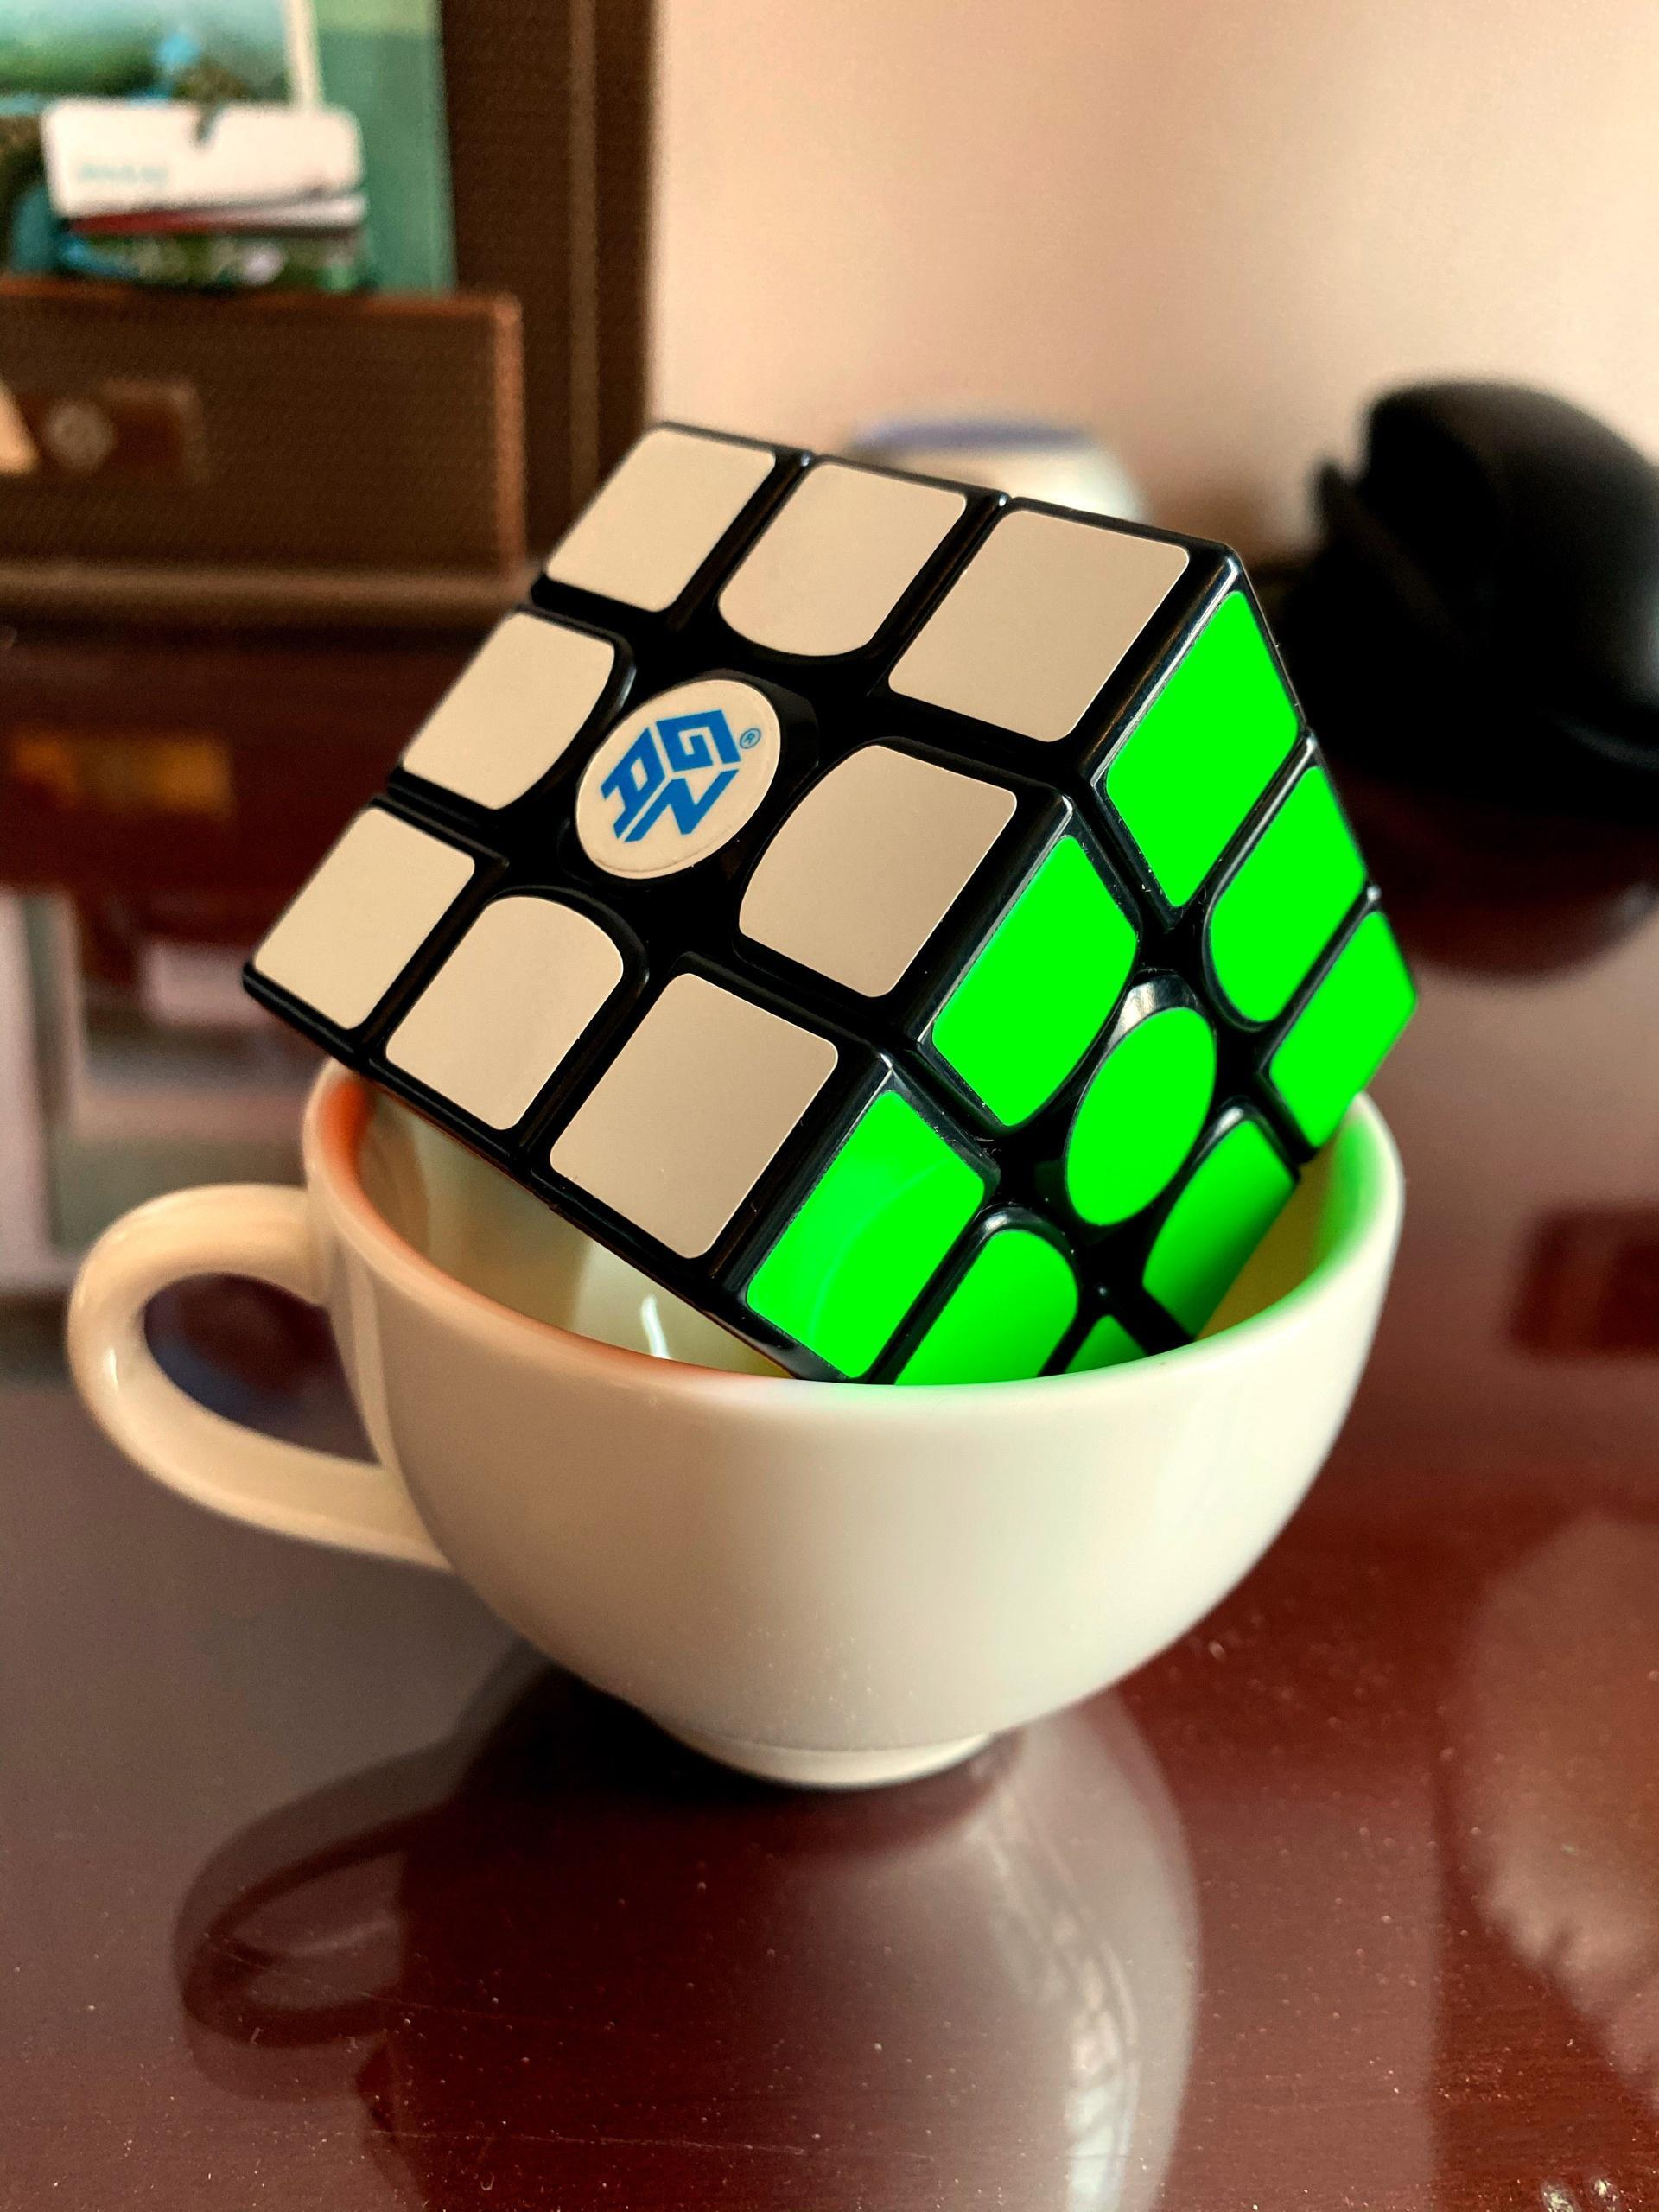cube: (232, 359, 1436, 1507)
